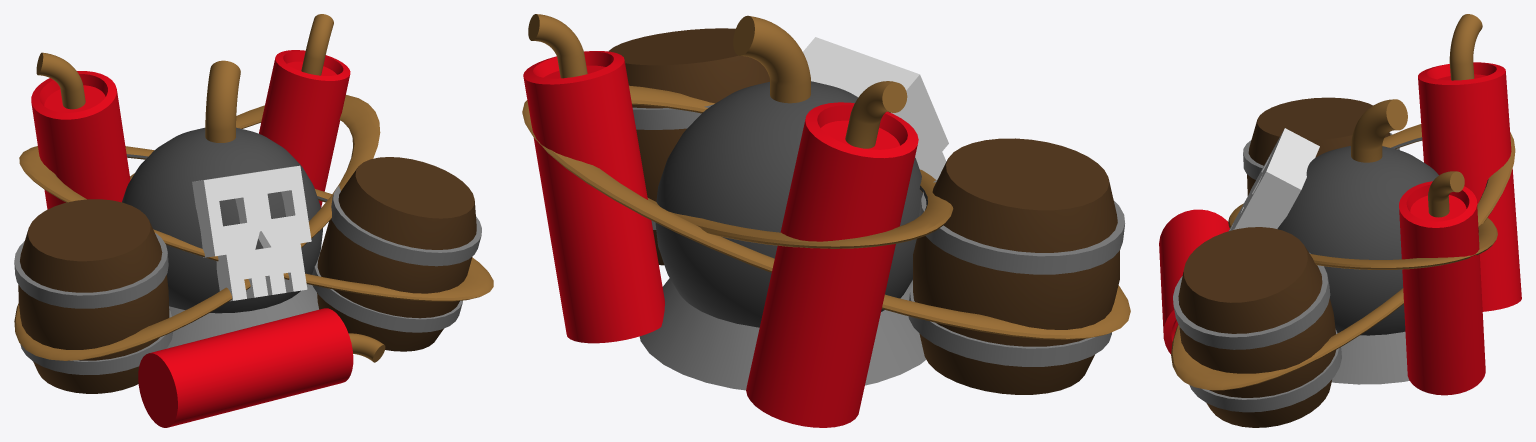
The model's file is bomba.fbx.
3 renders of one model, left to right at view 1: azimuth 30°, elevation 25°; view 2: azimuth 150°, elevation 25°; view 3: azimuth 270°, elevation 25°, orthographic. The views are drawn at different scales.
Parts seen in each view (by area): view 1: Cube.013; view 2: Cube.013; view 3: Cube.013.
Part boxes in pixels (left/top/right/bottom): Cube.013: left=14, top=14, right=493, bottom=427; Cube.013: left=522, top=14, right=1130, bottom=427; Cube.013: left=1159, top=14, right=1521, bottom=427.
Size of the model in its own units: 943 by 580 by 693.
